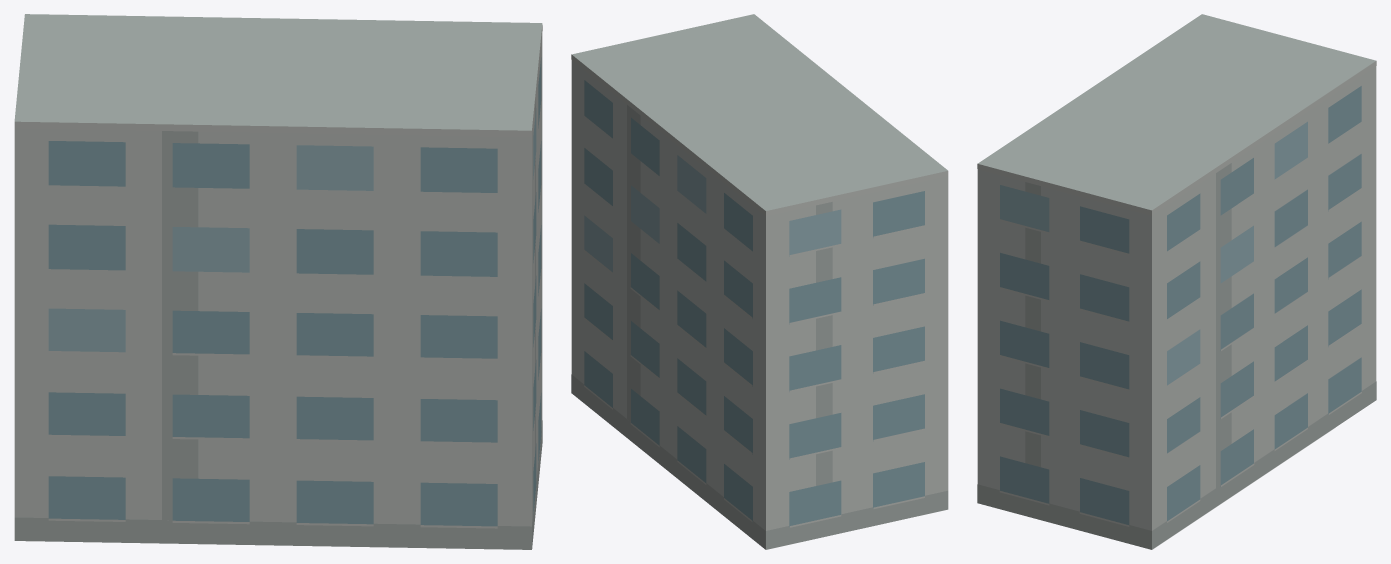
The model's file is residential-c3aa67ae-a64f-426f-8983-edf5aee3b90c.glb.
3 renders of one model, left to right at view 1: azimuth 30°, elevation 25°; view 2: azimuth 150°, elevation 25°; view 3: azimuth 270°, elevation 25°, orthographic. The views are drawn at different scales.
Parts seen in each view (by area): view 1: residential-c3aa67ae-a64f-426f-8983-edf5aee3b90c.tmp; view 2: residential-c3aa67ae-a64f-426f-8983-edf5aee3b90c.tmp; view 3: residential-c3aa67ae-a64f-426f-8983-edf5aee3b90c.tmp.
Boxes of the visible parts, x1,y1,x2,y2 form: residential-c3aa67ae-a64f-426f-8983-edf5aee3b90c.tmp: (14,14,542,549); residential-c3aa67ae-a64f-426f-8983-edf5aee3b90c.tmp: (571,14,948,549); residential-c3aa67ae-a64f-426f-8983-edf5aee3b90c.tmp: (977,14,1376,549).
Bounding box in the file's own units: 18.93 × 15.25 × 16.25.
